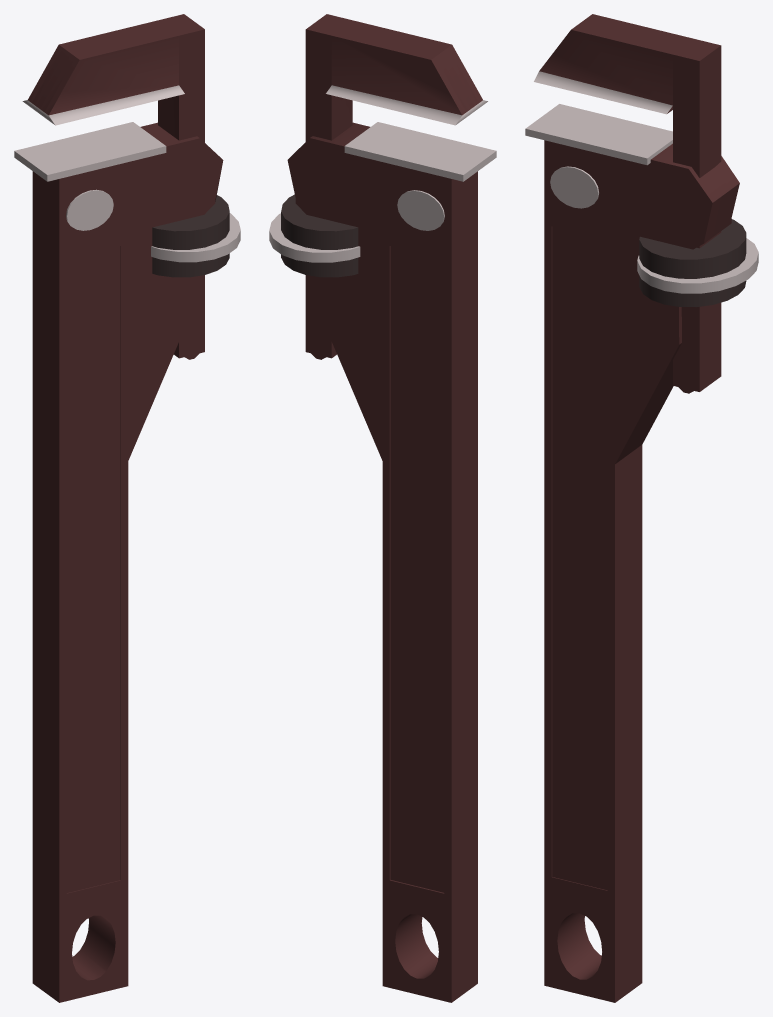
The model's file is WrenchModel.fbx.
The picture shows the model from 3 angles, left to right: view 1: azimuth 30°, elevation 25°; view 2: azimuth 150°, elevation 25°; view 3: azimuth 330°, elevation 25°; orthographic projection. The views are drawn at different scales.
Visible parts, largest first — view 1: pCube9; view 2: pCube9; view 3: pCube9.
Part boxes in pixels (left/top/right/bottom): pCube9: left=14, top=14, right=240, bottom=1002; pCube9: left=269, top=14, right=496, bottom=1002; pCube9: left=525, top=14, right=758, bottom=1002.
Size of the model in its own units: 0.4275 by 1.9 by 0.2391.
